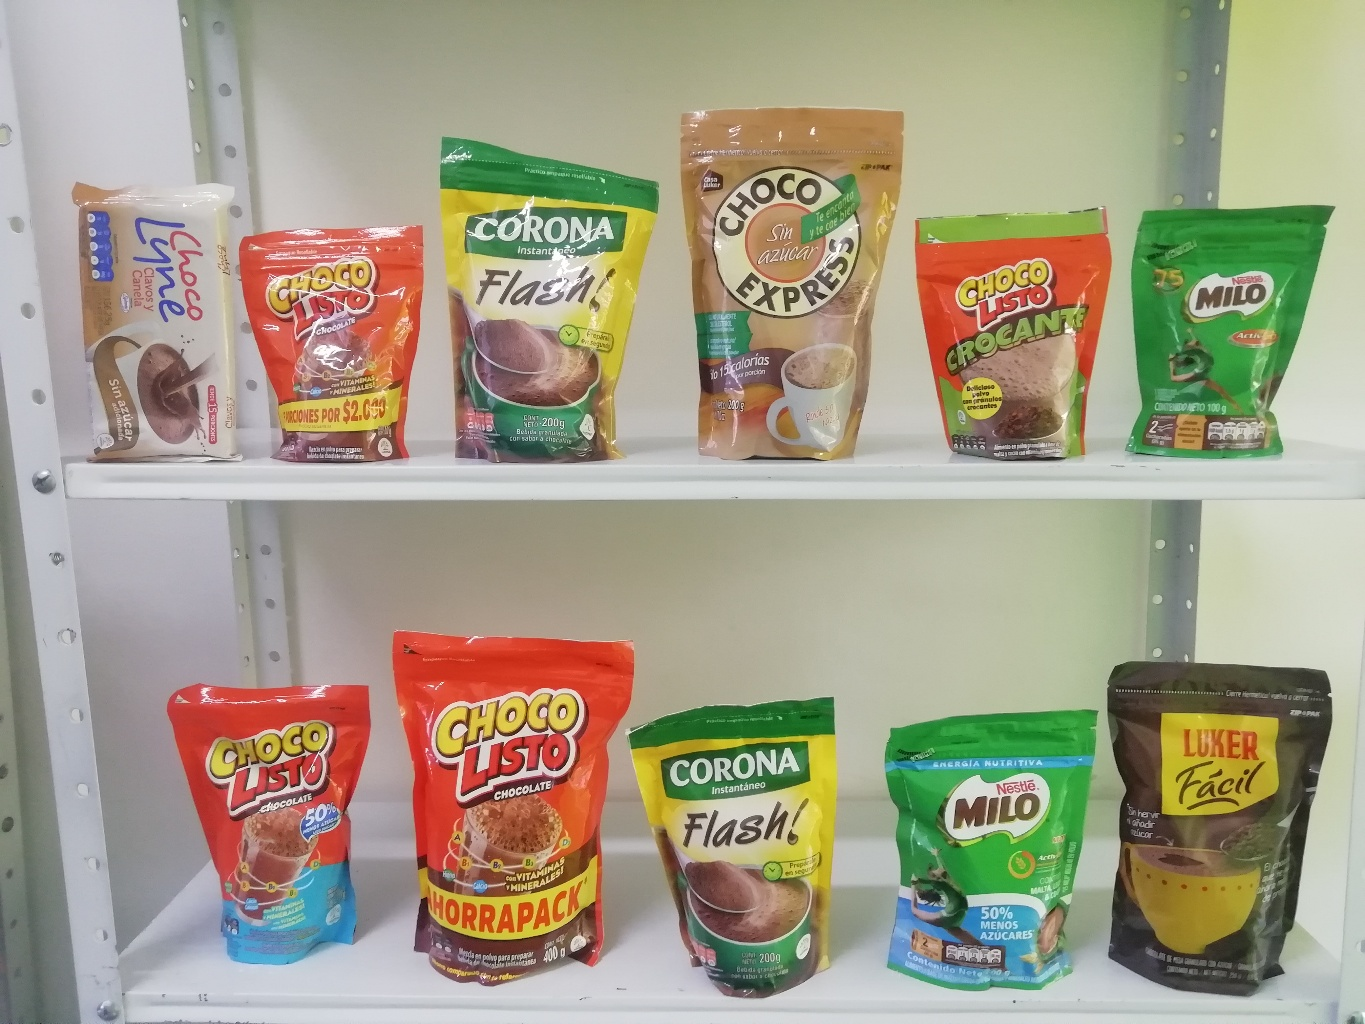COL0170102DYP10000: (913, 214, 1108, 463)
COL0170103DYP10000: (237, 223, 423, 463)
COL0170103DYP40000: (388, 626, 635, 989)
COL0170104DYP20000: (162, 678, 373, 966)
COL0170203DYP10000: (1139, 200, 1335, 458)
COL0170205DYP20000: (890, 705, 1099, 995)
